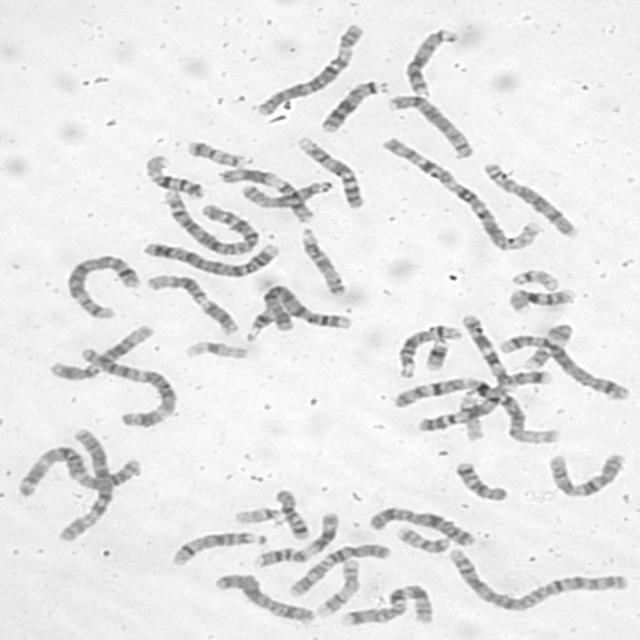A1: (378, 134, 544, 253), (390, 373, 562, 446)
A2: (446, 546, 628, 613), (159, 186, 260, 256)
A3: (78, 343, 178, 429), (12, 443, 146, 498)
B4: (139, 238, 281, 278), (262, 283, 354, 332)
B5: (496, 331, 632, 401), (63, 250, 144, 322)
C10: (286, 540, 392, 598), (542, 449, 626, 500)
C11: (216, 164, 317, 227), (251, 511, 339, 569)
C12: (46, 321, 156, 382), (143, 270, 239, 336)
C6: (250, 20, 367, 117), (56, 430, 115, 542)
C7: (458, 312, 554, 386), (338, 582, 437, 628)
C8: (479, 160, 580, 240), (384, 91, 476, 160)
C9: (294, 133, 366, 210), (415, 382, 518, 435)
D13: (317, 77, 390, 133), (401, 26, 458, 96)
D14: (167, 528, 266, 567), (397, 324, 463, 379)
D15: (297, 224, 348, 297), (238, 177, 334, 209)
E16: (141, 153, 203, 198), (504, 286, 578, 312)
E17: (520, 322, 576, 374), (314, 557, 362, 617)
E18: (453, 458, 510, 502), (272, 486, 311, 541)
F19: (182, 337, 248, 361), (456, 393, 486, 442)
F20: (184, 137, 250, 168), (393, 524, 453, 554)
G21: (243, 308, 278, 342), (420, 337, 451, 372)
G22: (230, 504, 286, 528), (508, 266, 561, 291)
X: (210, 570, 316, 626), (365, 505, 477, 547)
